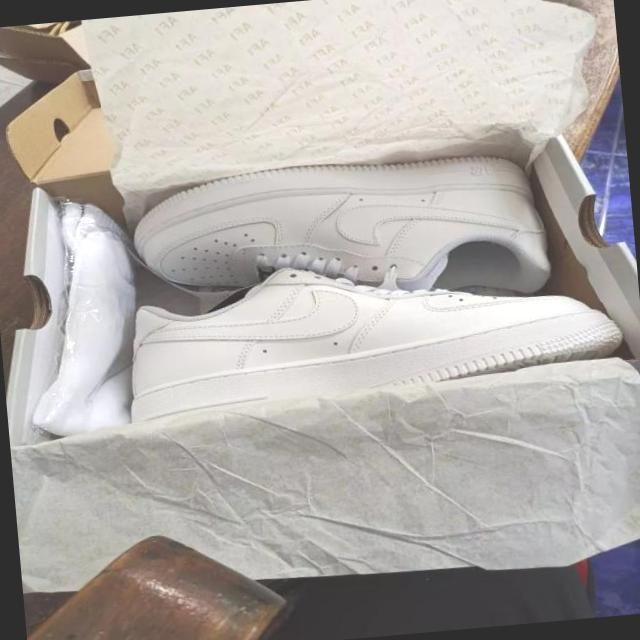nike_original_airforce: (118, 233, 632, 424), (125, 134, 600, 332)
